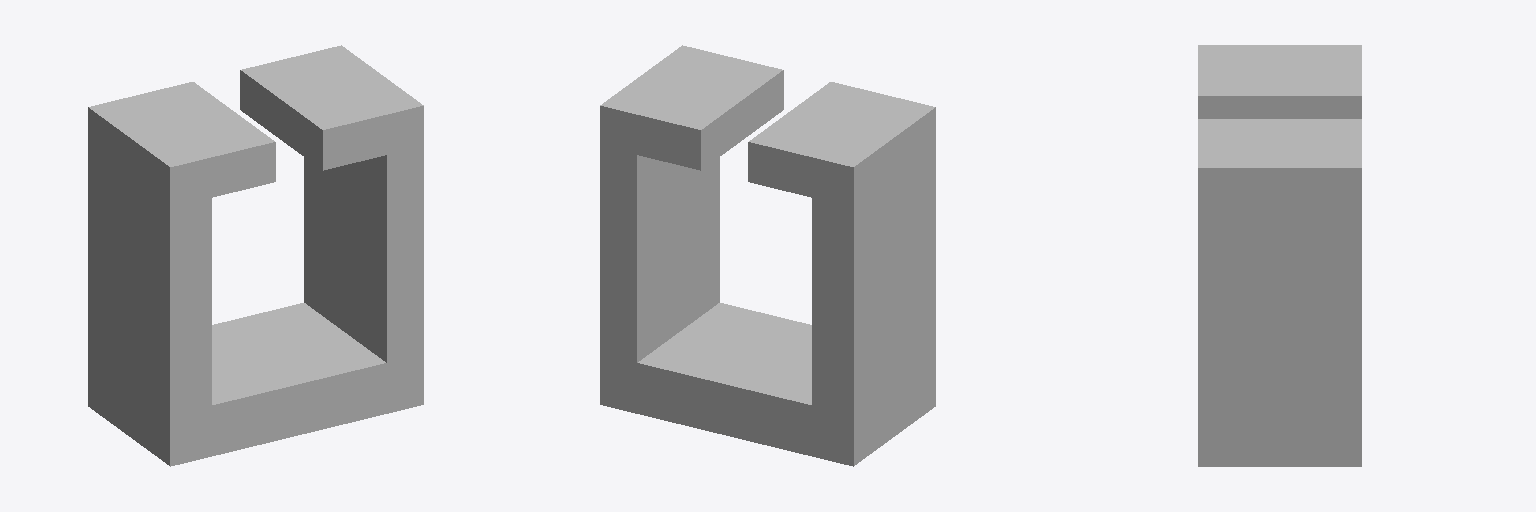
Rendered from Platform22.obj.
3 renders of one model, left to right at view 1: azimuth 30°, elevation 25°; view 2: azimuth 150°, elevation 25°; view 3: azimuth 270°, elevation 25°, orthographic.
Visible parts, largest first — view 1: Platform22; view 2: Platform22; view 3: Platform22.
Boxes of the visible parts, <box> form: Platform22: <box>88,45,423,466</box>; Platform22: <box>600,45,935,466</box>; Platform22: <box>1198,45,1361,466</box>.
Size of the model in its own units: 5.19 by 5.86 by 2.92.